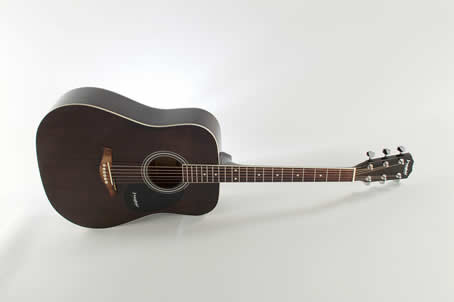guitar: (35, 85, 415, 231)
